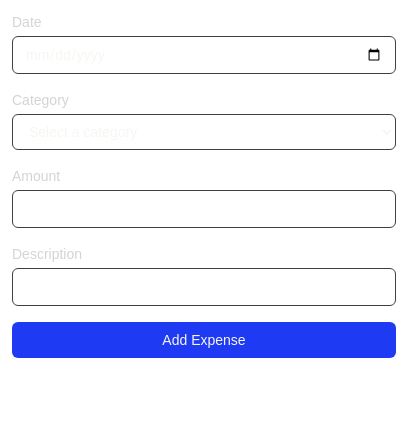
Scenario: AddExpenseForm › shows an error when amount is not a positive number
This screenshot has width=414, height=436.
Type "-50" into the field labelled "Amount".
click(204, 209); type("-50")  # box [12,190,396,228]
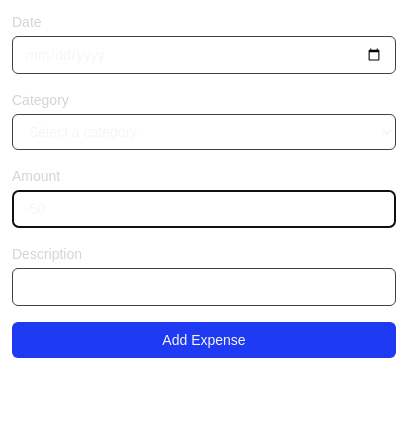
Click the button "Add Expense".
click(204, 340)  # box [12,322,396,358]
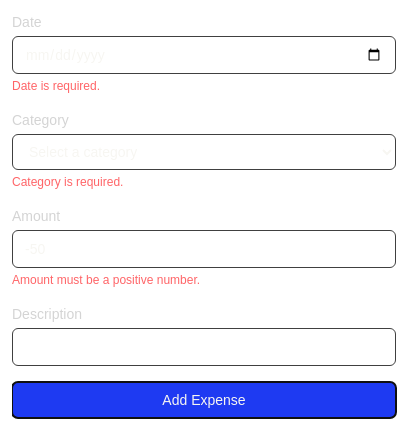
expect the text "Amount must be a positive number." is shown: met, box [12,273,200,287]
